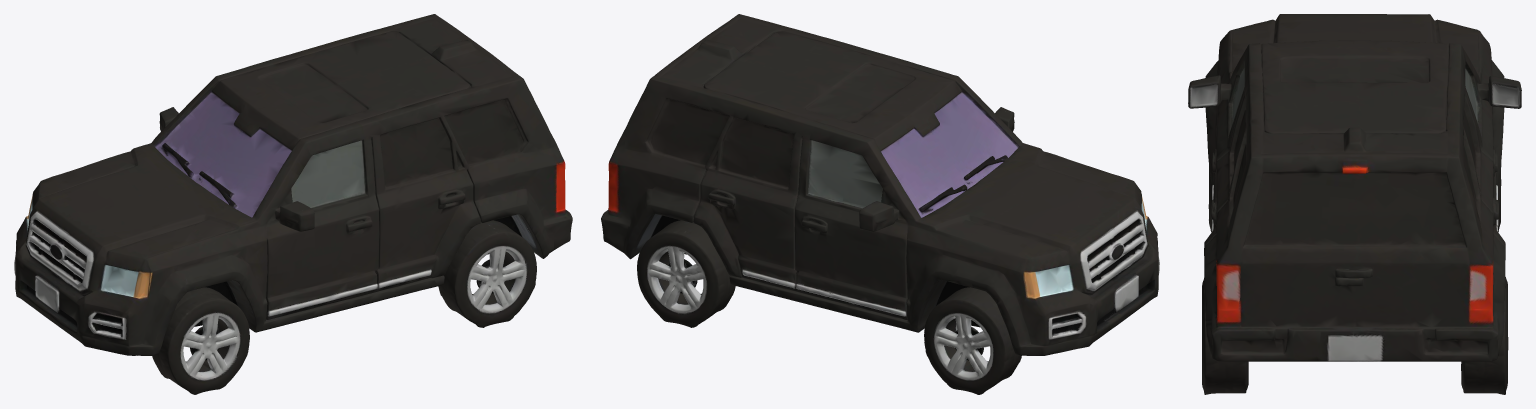
Rendered from suv.glb.
3 views of the same model, side by side, from view 1: azimuth 30°, elevation 25°; view 2: azimuth 150°, elevation 25°; view 3: azimuth 270°, elevation 25° (orthographic). The views are drawn at different scales.
Parts seen in each view (by area): view 1: geometry_0; view 2: geometry_0; view 3: geometry_0.
Part boxes in pixels (bbox=[...]): geometry_0: bbox=[14, 14, 572, 394]; geometry_0: bbox=[601, 14, 1159, 394]; geometry_0: bbox=[1188, 14, 1521, 394].
Bounding box in the file's own units: 4.6 × 2.15 × 2.44.
1 material, 1 textured.
